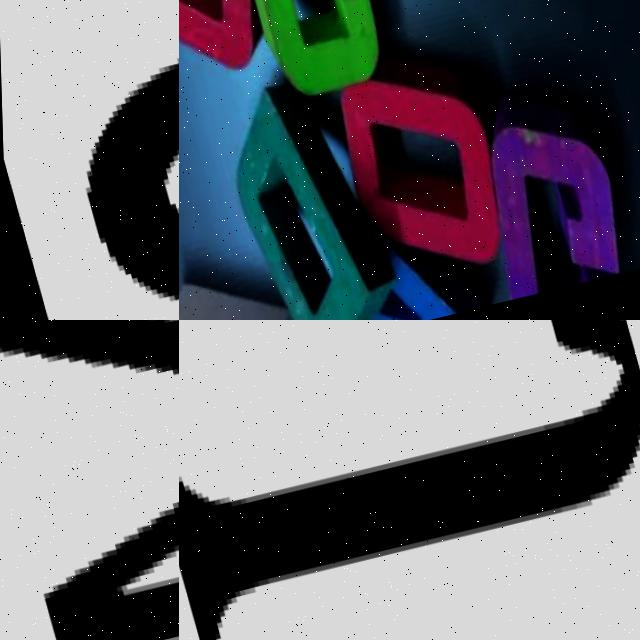3: (28, 0, 179, 320)
C: (202, 0, 404, 137)
D: (210, 84, 382, 320)
G: (456, 76, 640, 299)
J: (179, 320, 640, 640)
M: (0, 320, 179, 640)
O: (317, 37, 520, 275)
